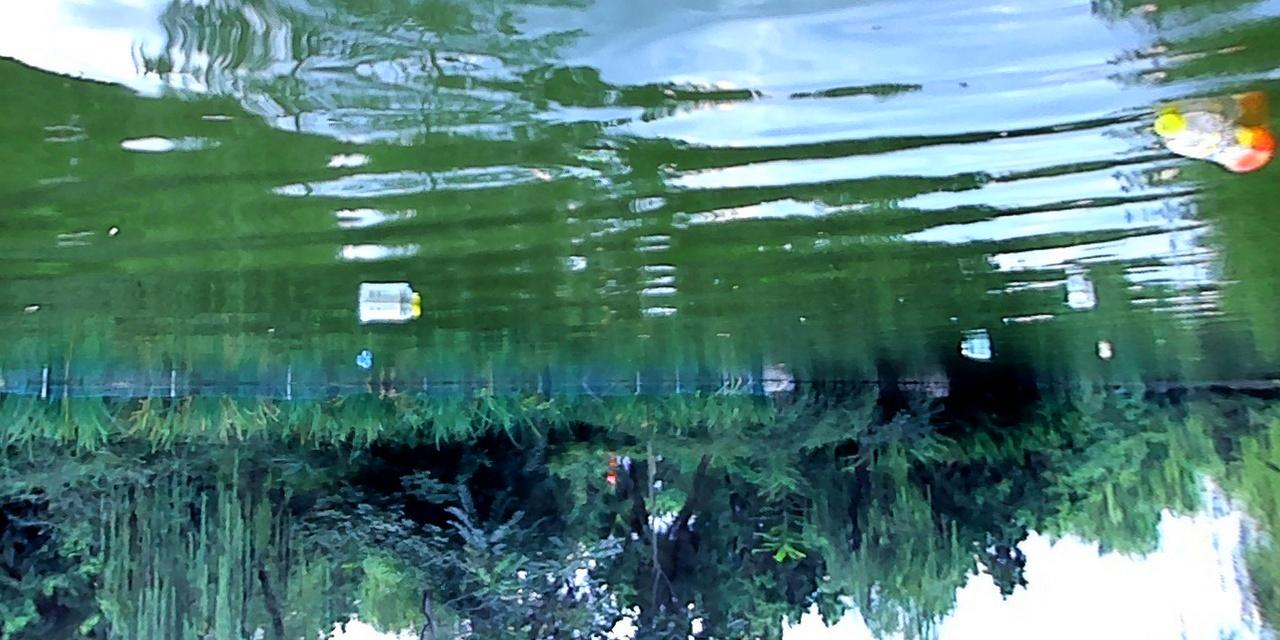Plastic: (1152, 109, 1278, 175), (357, 301, 423, 323), (1067, 291, 1099, 310), (960, 347, 992, 360)
